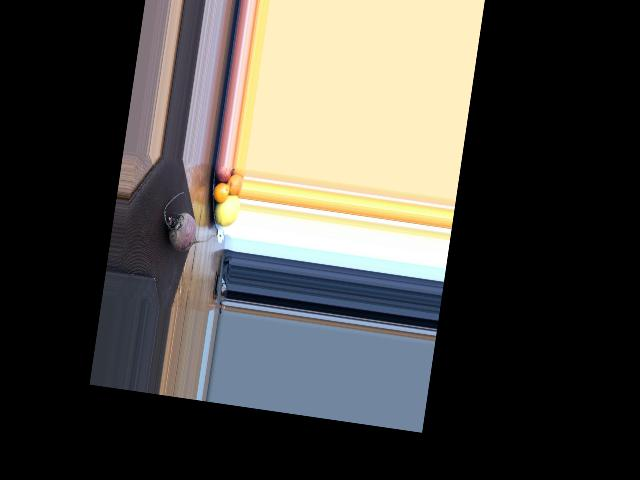beet: (158, 190, 217, 255)
